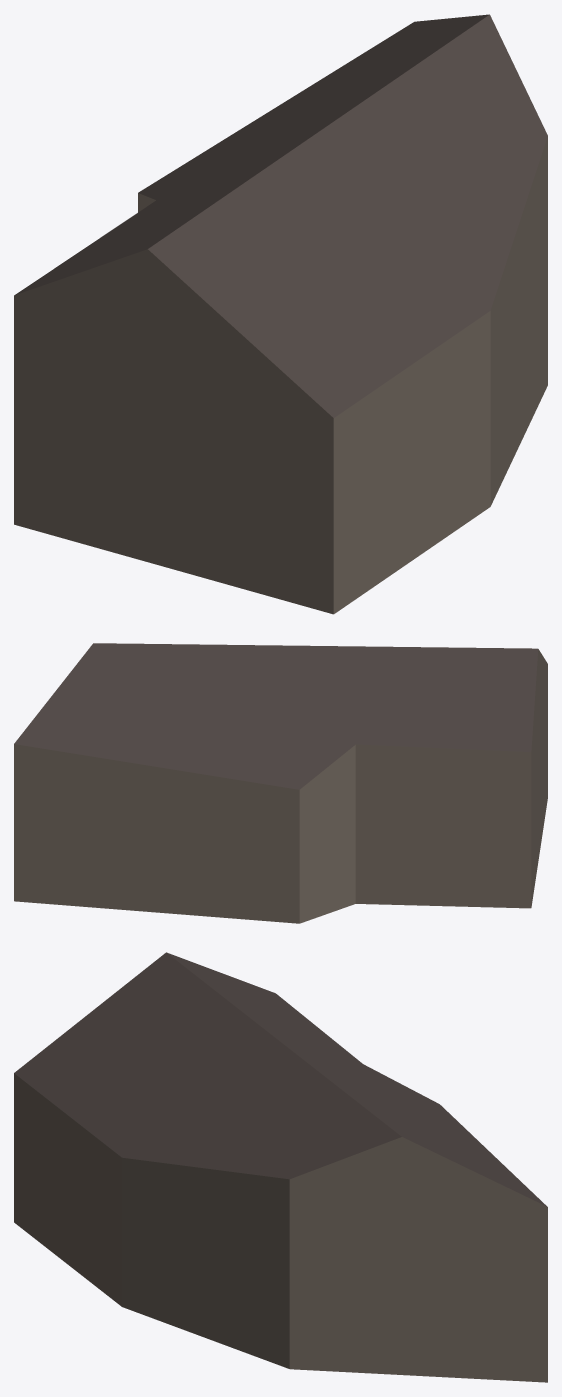
3 renders of one model, top to bottom at view 1: azimuth 30°, elevation 25°; view 2: azimuth 150°, elevation 25°; view 3: azimuth 270°, elevation 25°, orthographic. The views are drawn at different scales.
Visible parts, largest first — view 1: HP-w859082446; view 2: HP-w859082446; view 3: HP-w859082446.
Part boxes in pixels (<box>): HP-w859082446: <box>14,14,547,614</box>; HP-w859082446: <box>14,643,547,923</box>; HP-w859082446: <box>14,952,547,1382</box>.
Size of the model in its own units: 18.53 by 9.57 by 19.45.
